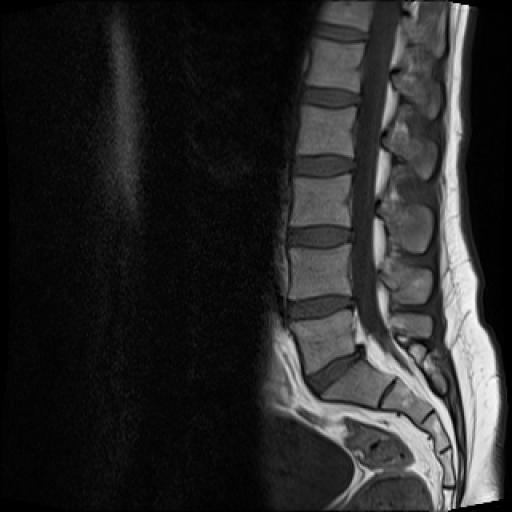L1: (306, 37, 365, 92)
L2: (297, 105, 357, 156)
L3: (292, 174, 350, 226)
L4: (287, 243, 351, 300)
L5: (288, 308, 354, 376)
S1: (321, 358, 396, 408)
